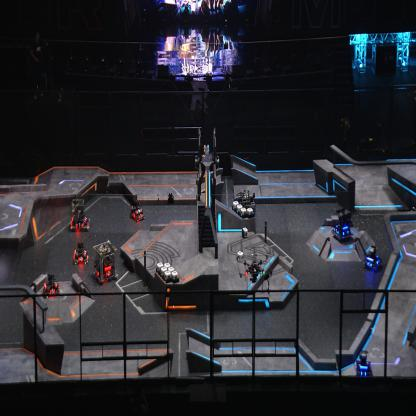car: (92, 241, 118, 282), (234, 190, 256, 224), (331, 208, 352, 241), (70, 196, 90, 229), (362, 245, 382, 273), (355, 352, 373, 380), (42, 272, 60, 298), (130, 198, 146, 222), (73, 241, 89, 265)
